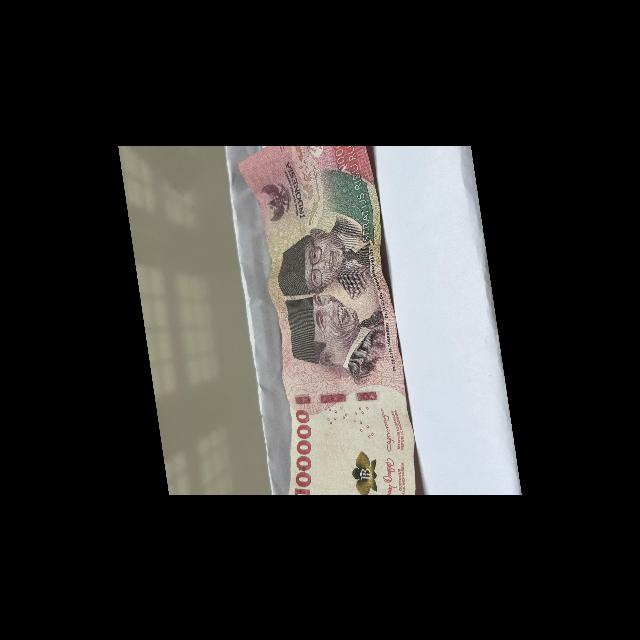Palsu-100k: (232, 139, 423, 515)
Tinta-Palsu-100k: (350, 449, 379, 495)
